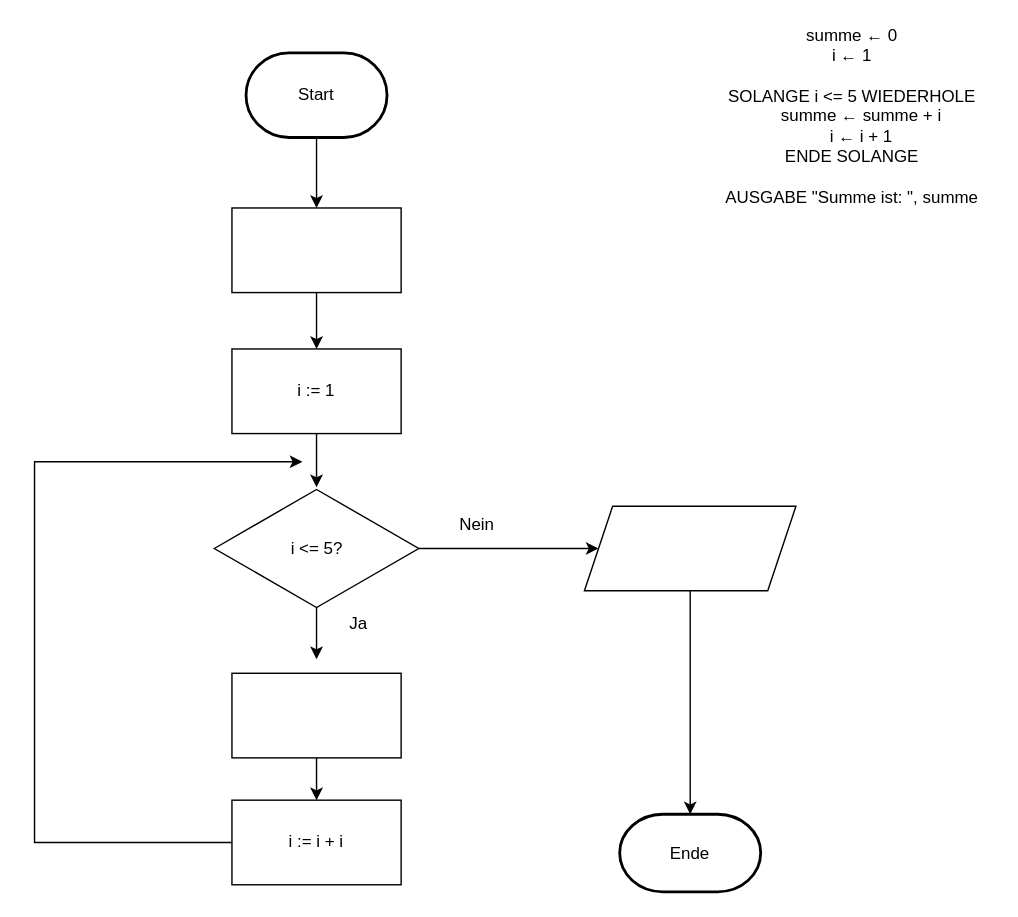
Some shapes in this 1018 by 917 pixel diagram are drawn without their labels. Each missing label, with the centre of its shape:
"summe := 0" belongs at point 316,250.
"summe := summe + i" belongs at point 316,715.
"ZEIGE 'summe ist: ' + summe" belongs at point 689,548.
